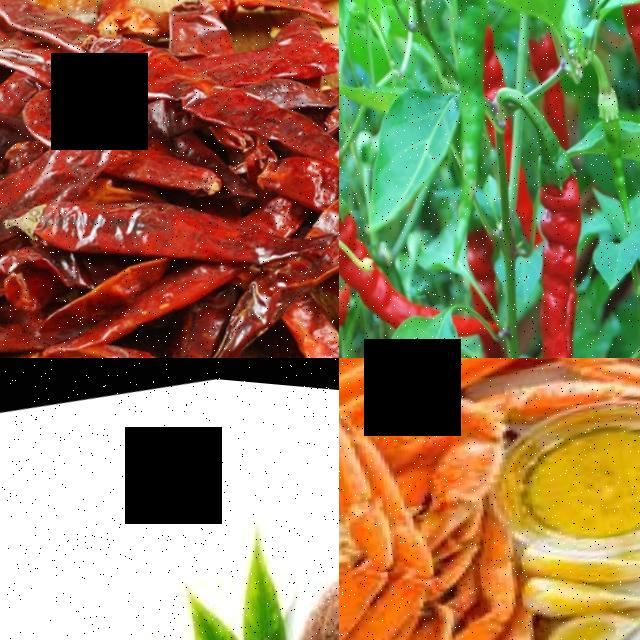chilli: (483, 132, 640, 358), (339, 183, 438, 339), (339, 180, 370, 353), (609, 0, 640, 146)
crab: (339, 405, 580, 640), (339, 358, 640, 477)
